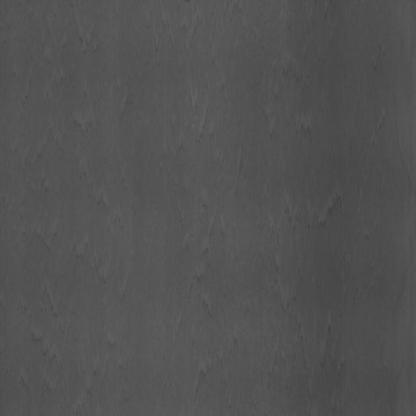silk_spot: (260, 133, 350, 354), (182, 175, 240, 329), (171, 61, 223, 133)
